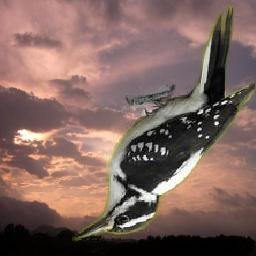Woodpecker: (73, 6, 256, 247)
